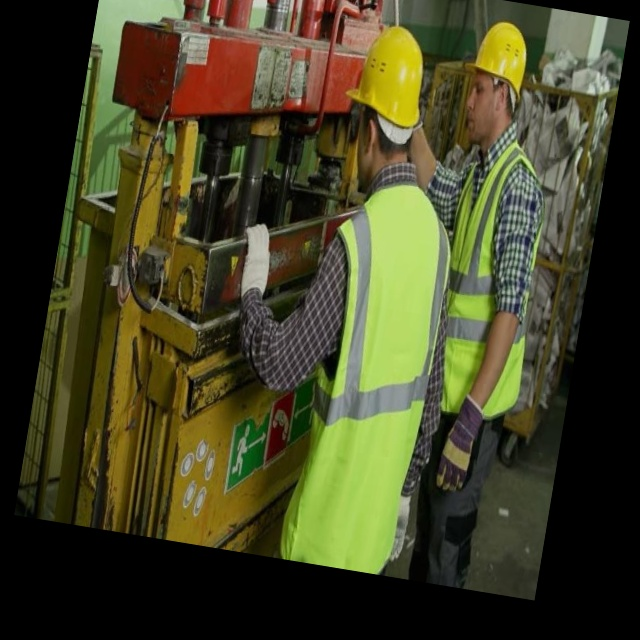Con_Chaleco: (281, 176, 460, 578), (423, 145, 559, 424)
